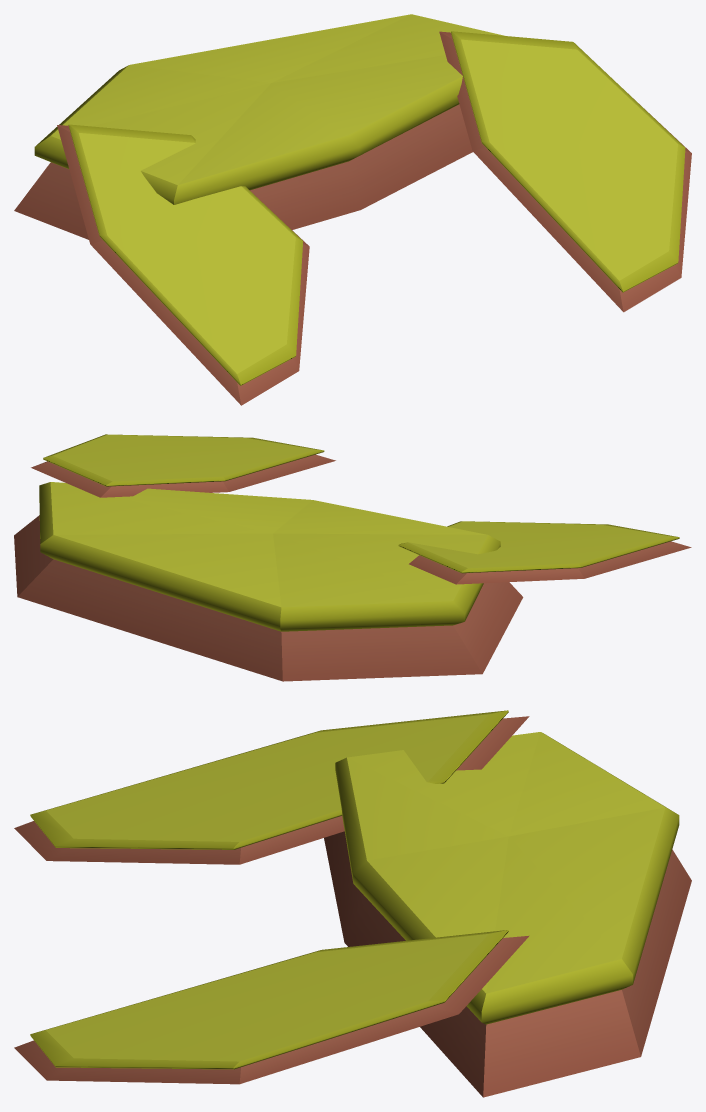
The model's file is CONTEXT_ONLY_KAYKIT_HILL.glb.
The picture shows the model from 3 angles, top to bottom: view 1: azimuth 30°, elevation 25°; view 2: azimuth 150°, elevation 25°; view 3: azimuth 270°, elevation 25°; orthographic projection. The views are drawn at different scales.
Visible parts, largest first — view 1: CTX_REAL_KAYKIT_HILL_hill_single_A, CTX_REAL_SIDE_R_hill_single_A, CTX_REAL_SIDE_L_hill_single_A; view 2: CTX_REAL_KAYKIT_HILL_hill_single_A, CTX_REAL_SIDE_R_hill_single_A, CTX_REAL_SIDE_L_hill_single_A; view 3: CTX_REAL_KAYKIT_HILL_hill_single_A, CTX_REAL_SIDE_R_hill_single_A, CTX_REAL_SIDE_L_hill_single_A.
Part boxes in pixels (left/top/right/bottom): CTX_REAL_KAYKIT_HILL_hill_single_A: left=14, top=14, right=504, bottom=239; CTX_REAL_SIDE_R_hill_single_A: left=439, top=31, right=691, bottom=312; CTX_REAL_SIDE_L_hill_single_A: left=57, top=124, right=309, bottom=405; CTX_REAL_KAYKIT_HILL_hill_single_A: left=14, top=482, right=523, bottom=681; CTX_REAL_SIDE_R_hill_single_A: left=31, top=434, right=335, bottom=497; CTX_REAL_SIDE_L_hill_single_A: left=398, top=521, right=691, bottom=584; CTX_REAL_KAYKIT_HILL_hill_single_A: left=324, top=732, right=691, bottom=1097; CTX_REAL_SIDE_R_hill_single_A: left=14, top=930, right=529, bottom=1084; CTX_REAL_SIDE_L_hill_single_A: left=14, top=710, right=529, bottom=864.
Bounding box in the file's own units: 37.2 × 7.46 × 32.89.
3 materials, 3 textured.
